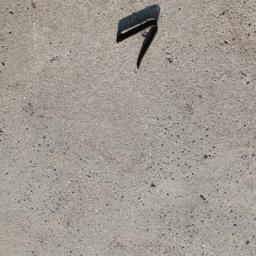FOD: (114, 1, 162, 78)
